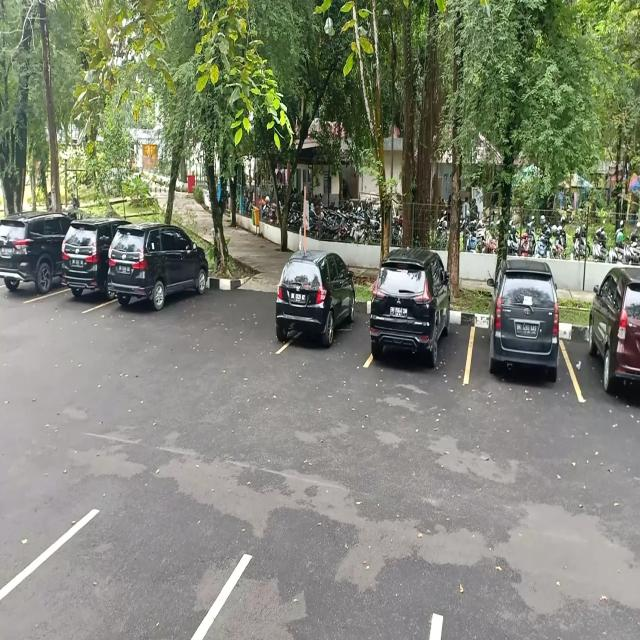occupied: (275, 257, 367, 368), (468, 290, 574, 384), (367, 283, 473, 370), (104, 232, 208, 316), (52, 217, 107, 312), (0, 222, 60, 304)
